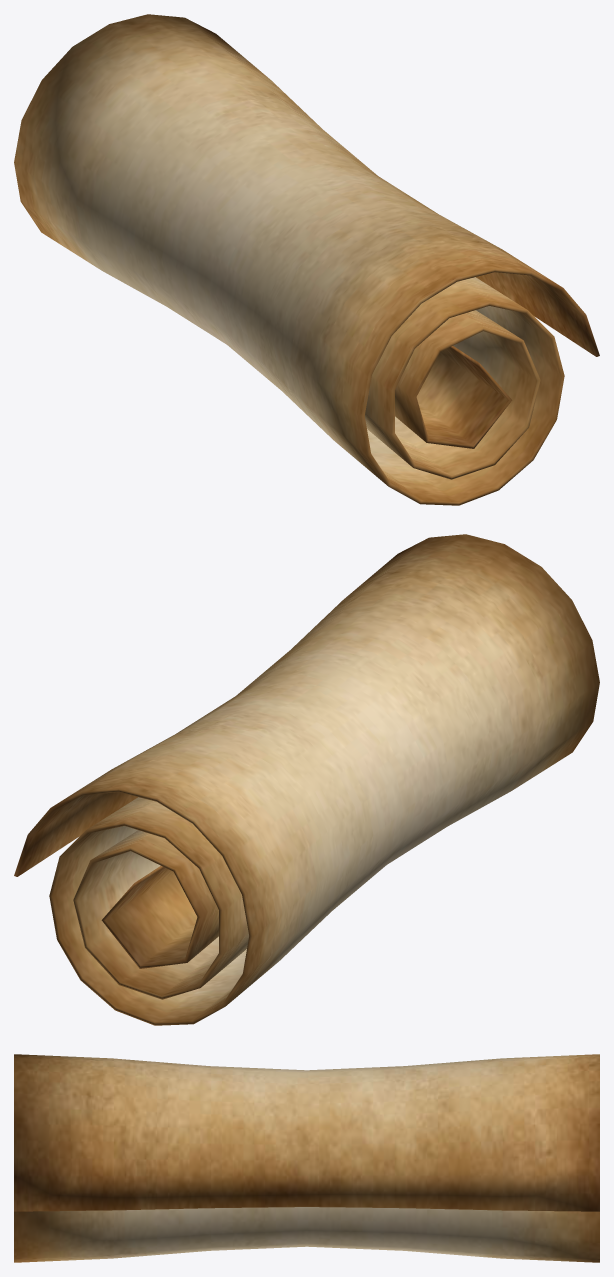
Rendered from pergamena_mesh.fbx.
The picture shows the model from 3 angles, top to bottom: view 1: azimuth 30°, elevation 25°; view 2: azimuth 150°, elevation 25°; view 3: azimuth 270°, elevation 25°; orthographic projection. The views are drawn at different scales.
Visible parts, largest first — view 1: Pergamena_mesh; view 2: Pergamena_mesh; view 3: Pergamena_mesh.
Part boxes in pixels (x1=…): Pergamena_mesh: x1=14, y1=14, x2=599, y2=505; Pergamena_mesh: x1=14, y1=534, x2=599, y2=1025; Pergamena_mesh: x1=14, y1=1054, x2=599, y2=1262.
Bounding box in the file's own units: 79.35 × 72.57 × 200.
